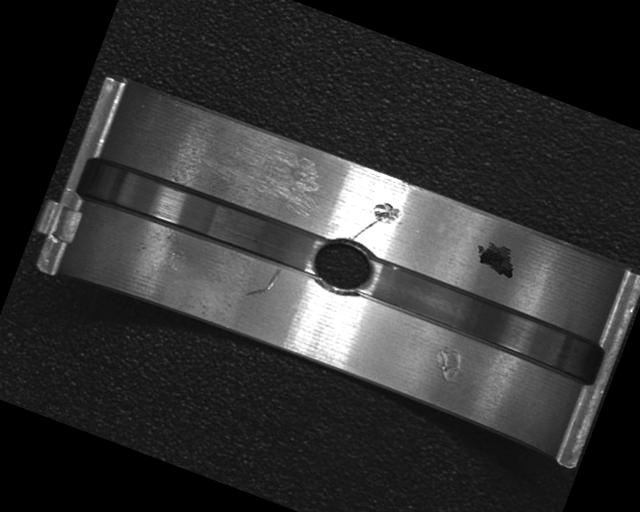blot: (470, 238, 522, 280)
bruise: (426, 342, 469, 388), (366, 198, 403, 229)
gap: (75, 149, 324, 284), (358, 254, 607, 389)
hole: (302, 226, 384, 306)
nick: (244, 260, 282, 304), (348, 209, 383, 249)
scratch: (193, 124, 327, 221)
